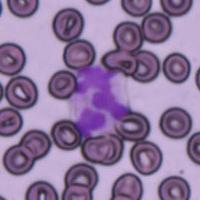N: (68, 64, 131, 139)
